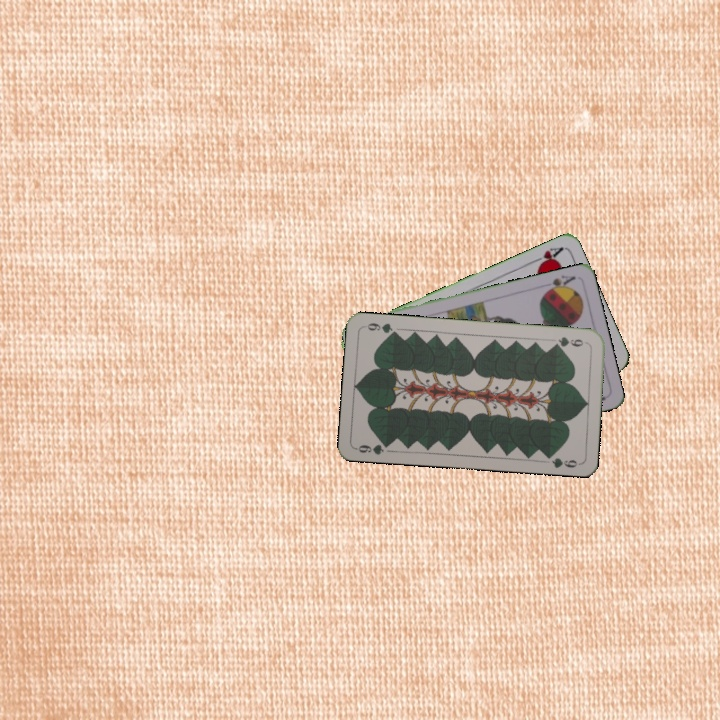G9: (353, 438, 394, 457), (549, 333, 590, 349)
HA: (526, 243, 565, 270)
SA: (541, 271, 578, 296)
